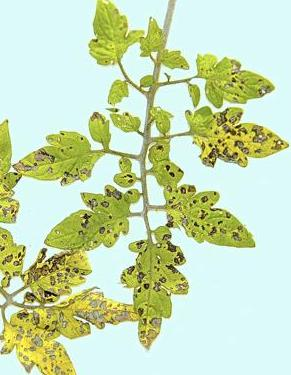Tomato Septoria leaf spot: (0, 278, 152, 375), (6, 111, 122, 206), (121, 222, 195, 366), (40, 177, 140, 273), (159, 179, 265, 250), (181, 105, 291, 171), (191, 46, 291, 111), (11, 251, 96, 315), (81, 0, 146, 80)
